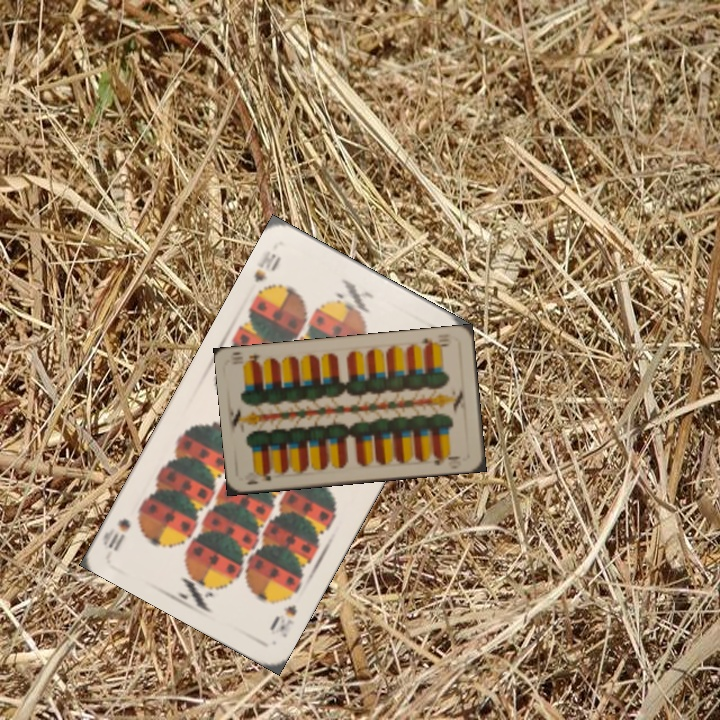E10: (243, 467, 273, 487), (417, 334, 452, 351)
S10: (249, 246, 284, 301), (275, 600, 300, 641)
